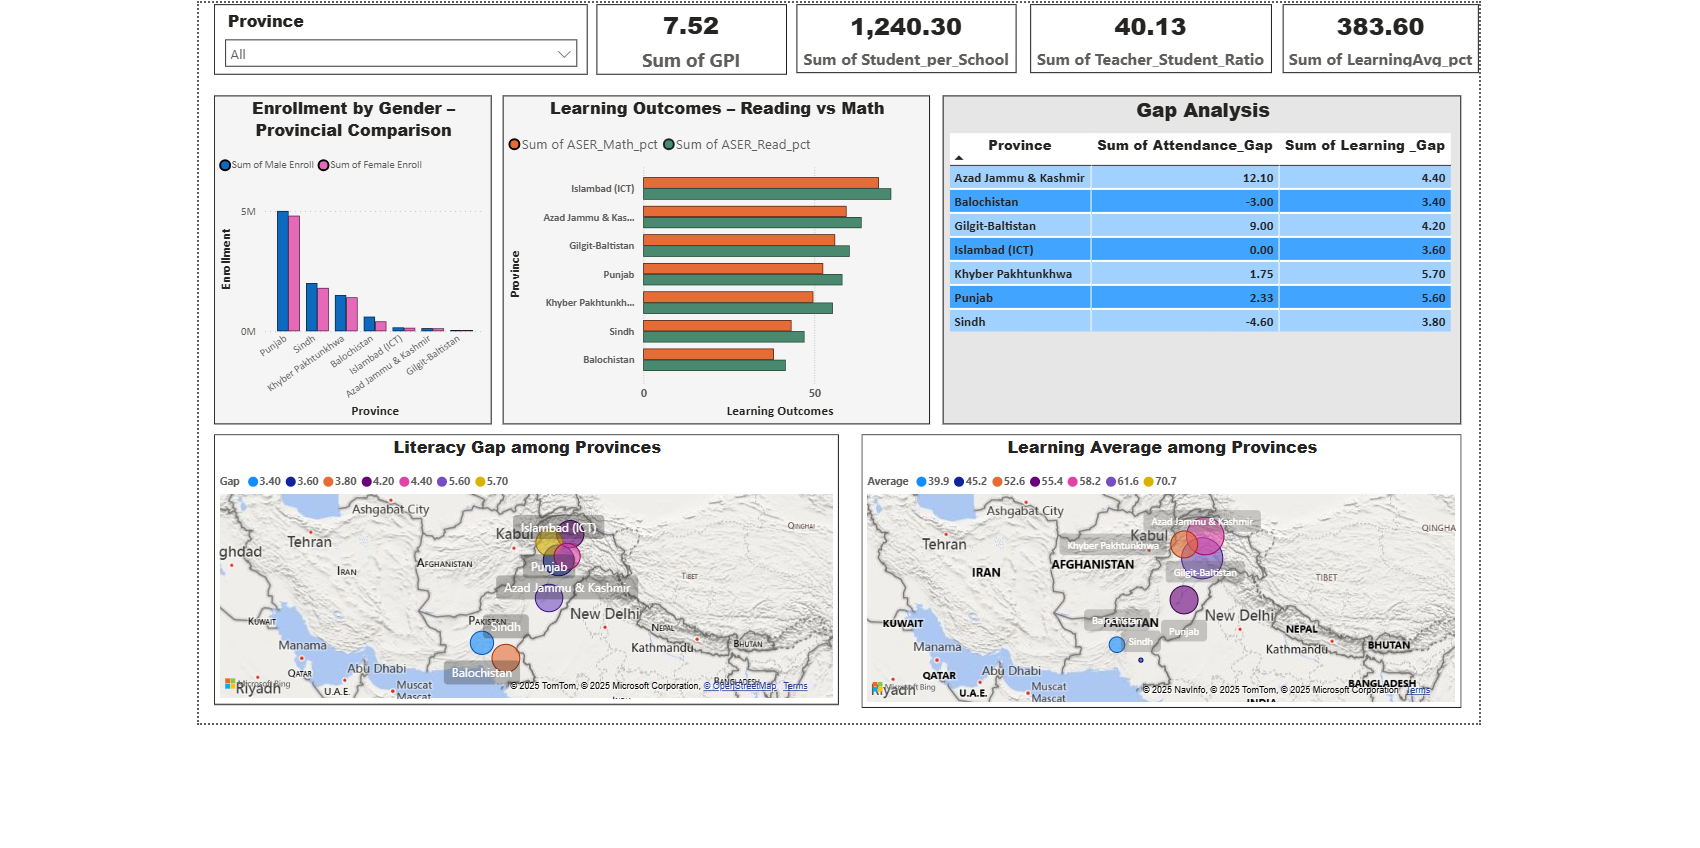

This screenshot's page, from the dashboard's own definition file:
{"tool":"powerbi","page":{"name":"Page 1","canvas":[1280,720],"ordinal":0},"visuals":[{"type":"clusteredBarChart","title":"Learning Outcomes – Reading vs Math","fields":{"Category":["Education Inequality Pakistan.Province"],"Y":["Sum(Education Inequality Pakistan.ASER_Math_pct)","Sum(Education Inequality Pakistan.ASER_Read_pct)"]},"box":[303.8,92.5,427.5,328.8],"z":0},{"type":"clusteredColumnChart","title":"Enrollment by Gender – Provincial Comparison","fields":{"Category":["Education Inequality Pakistan.Province"],"Y":["Sum(Education Inequality Pakistan.Male Enroll)","Sum(Education Inequality Pakistan.Female Enroll)"]},"box":[15,92.5,277.5,328.8],"z":1000},{"type":"map","title":"Literacy Gap among Provinces","fields":{"Category":["Education Inequality Pakistan.Province"],"Y":["Sum(Education Inequality Pakistan.Latitude)"],"X":["Sum(Education Inequality Pakistan.Longitude)"],"Size":["Sum(Education Inequality Pakistan.Literacy_10plus)"],"Series":["Education Inequality Pakistan.Learning _Gap"]},"box":[15,431.2,625,270],"z":2000},{"type":"map","title":"Learning Average among Provinces","fields":{"Category":["Education Inequality Pakistan.Province"],"X":["Sum(Education Inequality Pakistan.Longitude)"],"Y":["Sum(Education Inequality Pakistan.Latitude)"],"Size":["Sum(Education Inequality Pakistan.Attendance_Gap)"],"Series":["Education Inequality Pakistan.LearningAvg_pct"]},"box":[662.5,431.2,600,273.8],"z":3000},{"type":"tableEx","title":"Gap Analysis","fields":{"Values":["Education Inequality Pakistan.Province","Sum(Education Inequality Pakistan.Attendance_Gap)","Sum(Education Inequality Pakistan.Learning _Gap)"]},"box":[743.8,92.5,518.8,328.8],"z":4000},{"type":"slicer","fields":{"Values":["Education Inequality Pakistan.Province"]},"box":[15,1.2,373.8,70],"z":5000},{"type":"card","fields":{"Values":["Sum(Education Inequality Pakistan.GPI)","select"]},"box":[397.5,1.2,190,70],"z":6000},{"type":"card","fields":{"Values":["Sum(Education Inequality Pakistan.Teacher_Student_Ratio)"]},"box":[831.2,1.2,241.2,68.8],"z":7000},{"type":"card","fields":{"Values":["Sum(Education Inequality Pakistan.Student_per_School)"]},"box":[597.5,1.2,220,68.8],"z":8000},{"type":"card","fields":{"Values":["Sum(Education Inequality Pakistan.LearningAvg_pct)"]},"box":[1083.3,1.1,196.7,70],"z":9000}]}

Visuals, with their boxes on the page's 1280x720 design canvas (x1, y1, x2, y2). These are canvas units, not pixel positions in the 1700x848 screenshot, which may show the page scaled, cropped or inside an application window:
"Learning Outcomes – Reading vs Math" clusteredBarChart: l=304, t=92, r=731, b=421
"Enrollment by Gender – Provincial Comparison" clusteredColumnChart: l=15, t=92, r=292, b=421
"Literacy Gap among Provinces" map: l=15, t=431, r=640, b=701
"Learning Average among Provinces" map: l=662, t=431, r=1262, b=705
"Gap Analysis" tableEx: l=744, t=92, r=1263, b=421
slicer - Education Inequality Pakistan.Province: l=15, t=1, r=389, b=71
card - Sum(Education Inequality Pakistan.GPI) x select: l=398, t=1, r=588, b=71
card - Sum(Education Inequality Pakistan.Teacher_Student_Ratio): l=831, t=1, r=1072, b=70
card - Sum(Education Inequality Pakistan.Student_per_School): l=598, t=1, r=818, b=70
card - Sum(Education Inequality Pakistan.LearningAvg_pct): l=1083, t=1, r=1280, b=71
